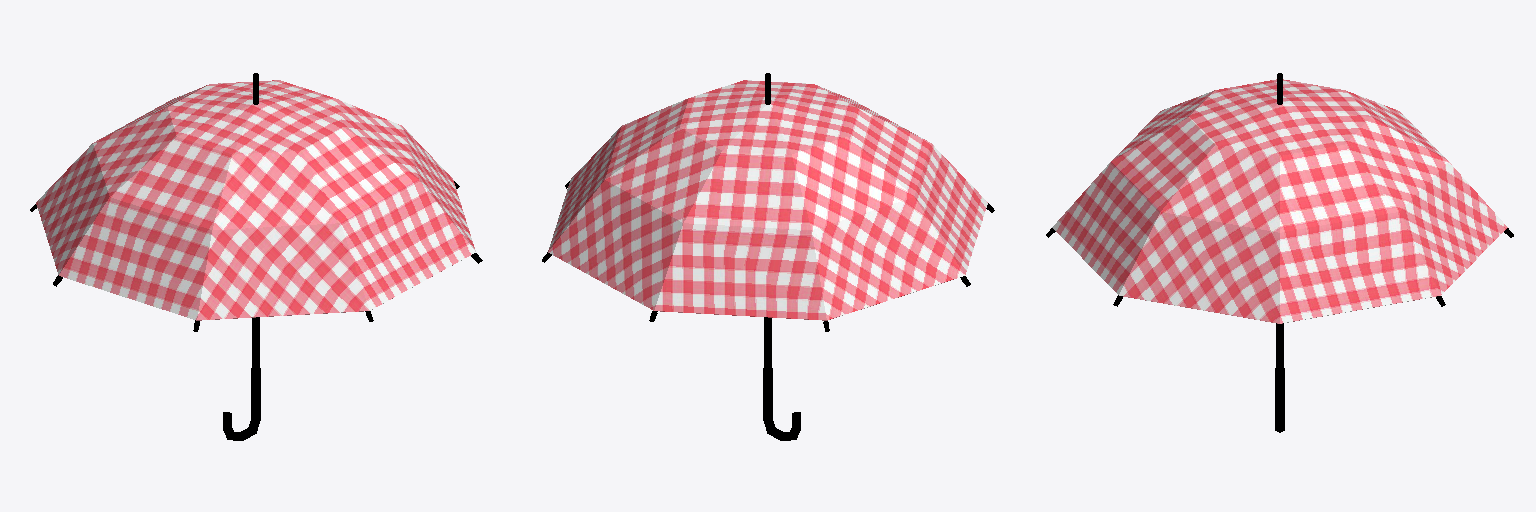
The picture shows the model from 3 angles: view 1: azimuth 30°, elevation 25°; view 2: azimuth 150°, elevation 25°; view 3: azimuth 270°, elevation 25°; orthographic projection.
Parts seen in each view (by area): view 1: Umbrella; view 2: Umbrella; view 3: Umbrella.
Boxes of the visible parts, x1,y1,x2,y2 form: Umbrella: [30, 73, 482, 440]; Umbrella: [542, 73, 994, 440]; Umbrella: [1046, 73, 1513, 432].
Size of the model in its own units: 8.43 by 7.21 by 8.43.
1 materials, 1 textured.